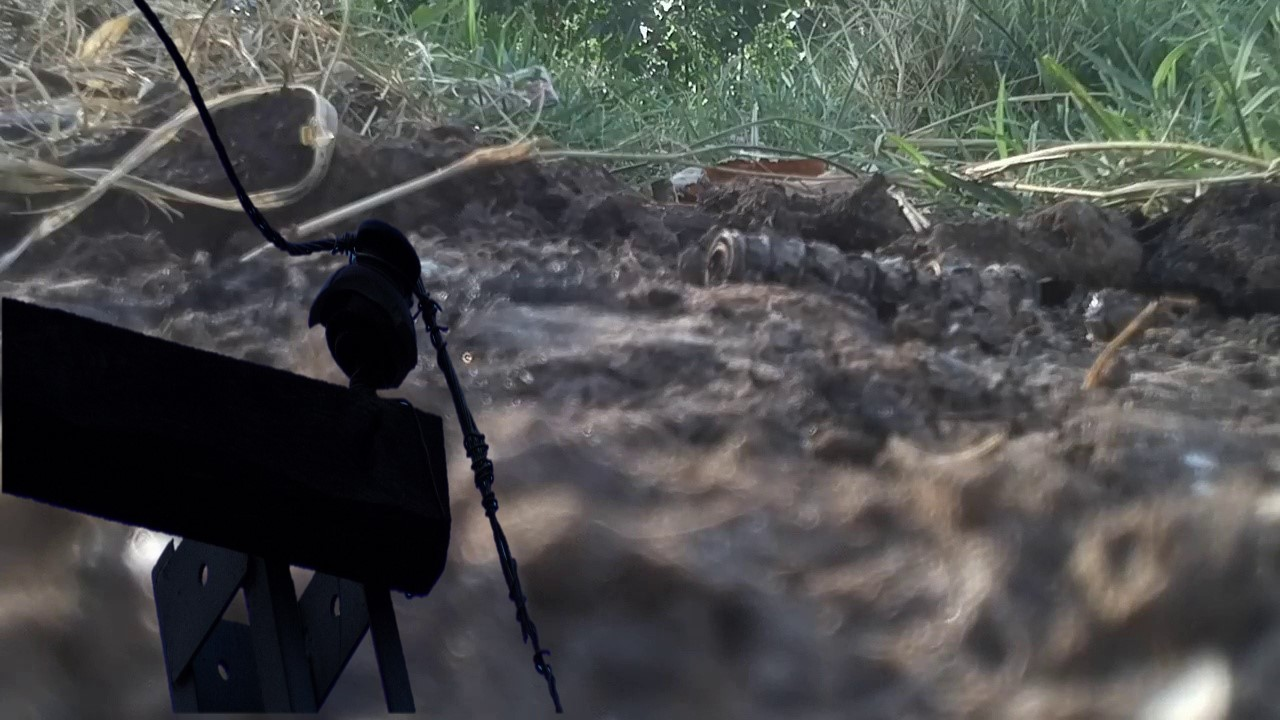defect_pin: (308, 214, 433, 396)
